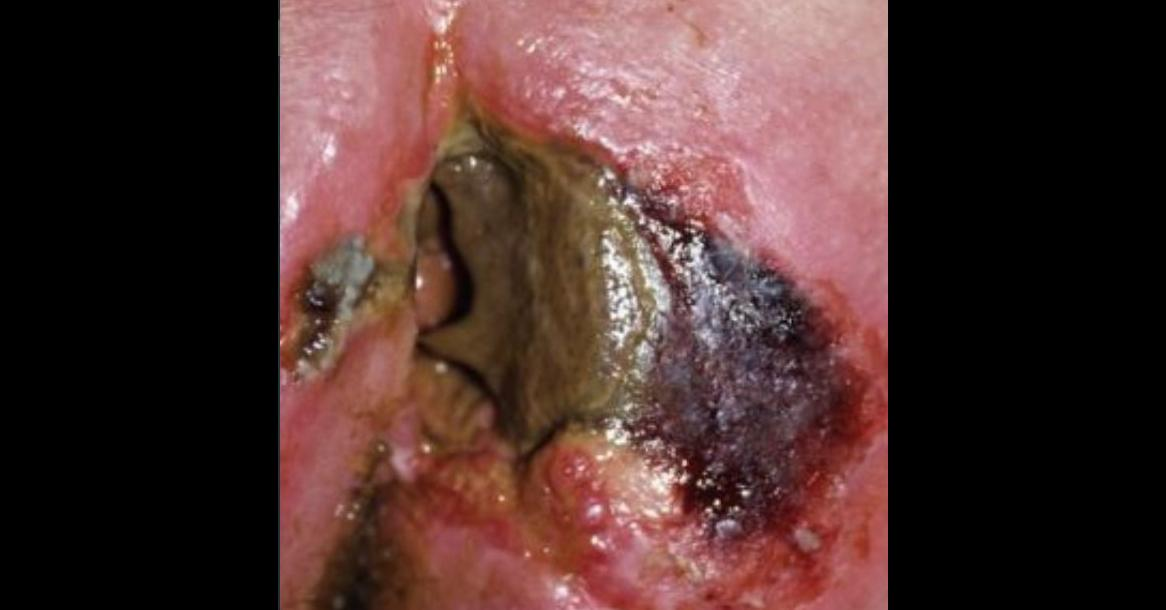Stage4: (327, 80, 848, 610)
